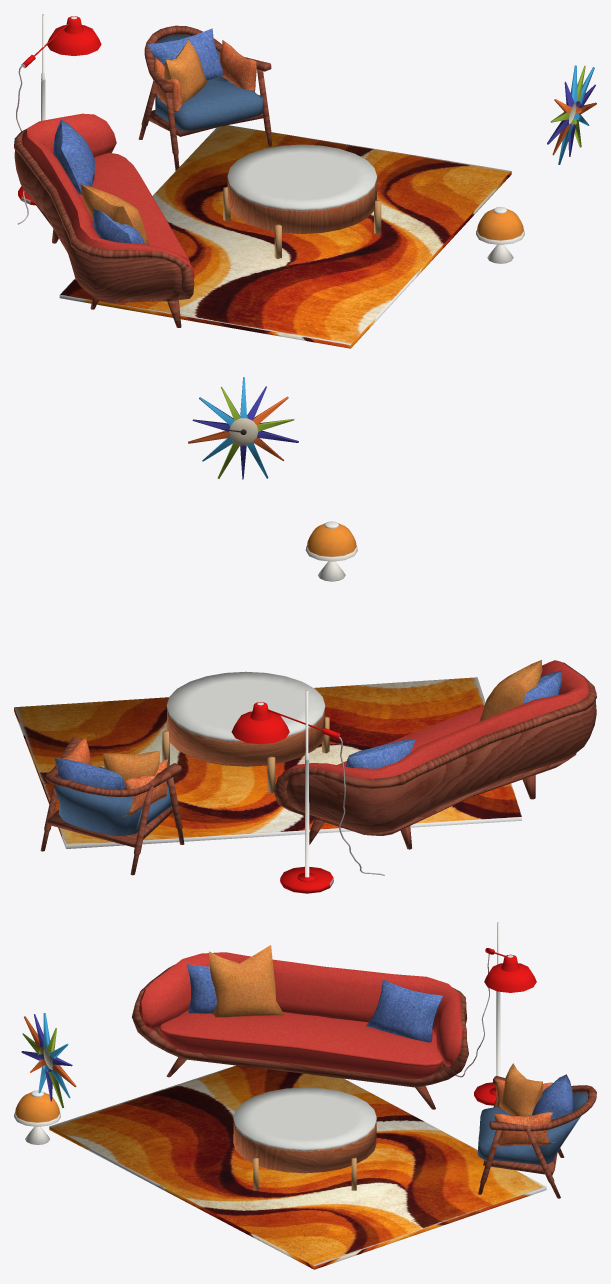
The model's file is mesh_60_room_1.glb.
3 views of the same model, one above another, from view 1: azimuth 30°, elevation 25°; view 2: azimuth 150°, elevation 25°; view 3: azimuth 270°, elevation 25° (orthographic). The views are drawn at different scales.
Parts seen in each view (by area): view 1: mesh_60_room_1; view 2: mesh_60_room_1; view 3: mesh_60_room_1.
Part boxes in pixels (left/top/right/bottom): mesh_60_room_1: left=14, top=14, right=596, bottom=348; mesh_60_room_1: left=14, top=377, right=596, bottom=893; mesh_60_room_1: left=14, top=922, right=596, bottom=1269.
Bounding box in the file's own units: 4.62 × 2.09 × 4.97.
Materials: 1 (1 with a texture image).
